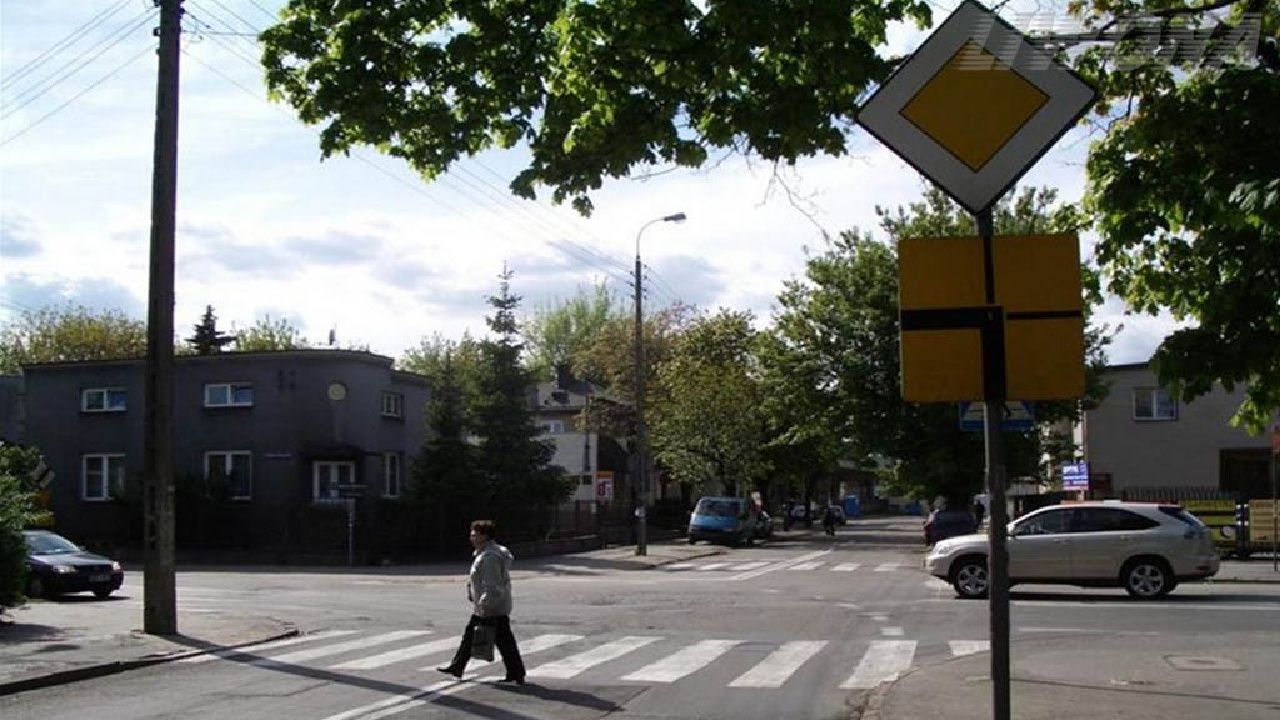D1: (855, 1, 1098, 213)
